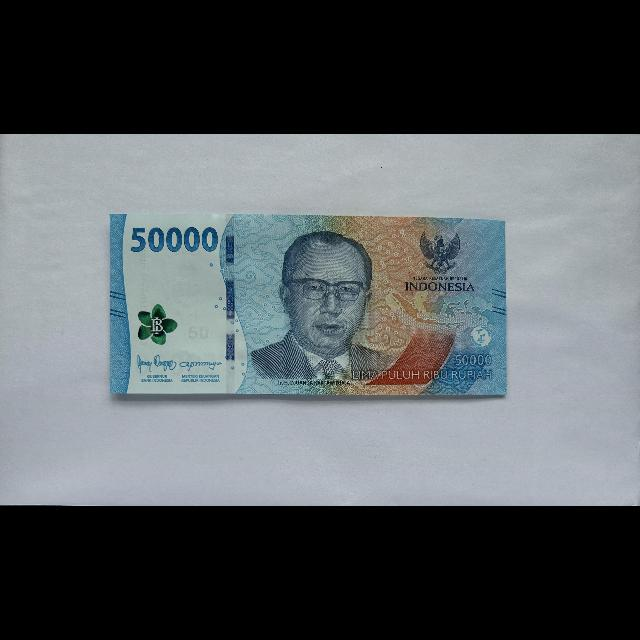Asli-50k: (108, 212, 508, 397)
Tinta-Asli-50k: (138, 303, 179, 346)
